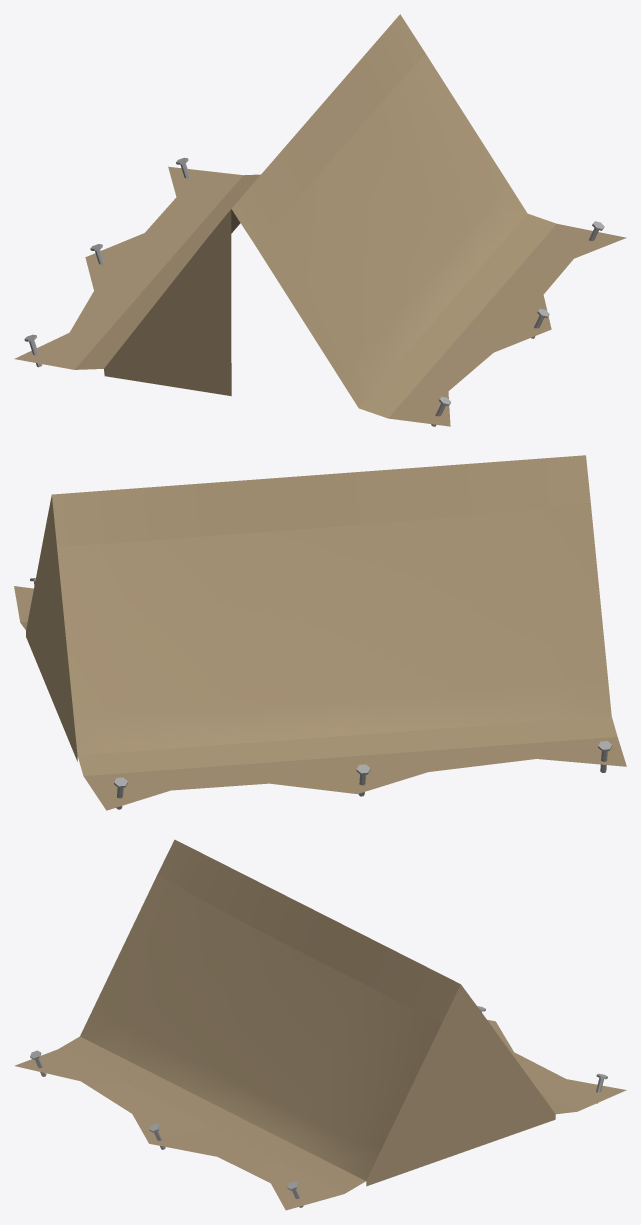
Rendered from TentNew.fbx.
The picture shows the model from 3 angles, top to bottom: view 1: azimuth 30°, elevation 25°; view 2: azimuth 150°, elevation 25°; view 3: azimuth 270°, elevation 25°; orthographic projection. The views are drawn at different scales.
Visible parts, largest first — view 1: wasteland_assets_safety:polySurface116; view 2: wasteland_assets_safety:polySurface116; view 3: wasteland_assets_safety:polySurface116.
Boxes of the visible parts, x1,y1,x2,y2 form: wasteland_assets_safety:polySurface116: (14, 14, 626, 426); wasteland_assets_safety:polySurface116: (14, 455, 626, 810); wasteland_assets_safety:polySurface116: (14, 839, 626, 1210).
Size of the model in its own units: 9.5 by 3.06 by 9.49.
